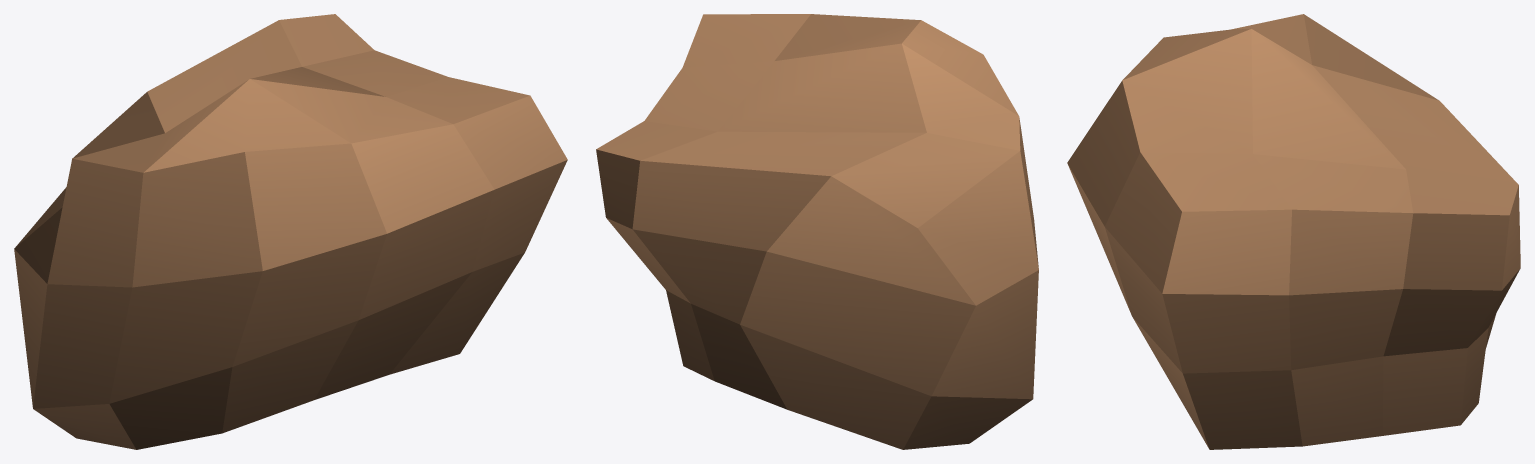
File: stone_A.fbx
3 views of the same model, side by side, from view 1: azimuth 30°, elevation 25°; view 2: azimuth 150°, elevation 25°; view 3: azimuth 270°, elevation 25° (orthographic). The views are drawn at different scales.
Parts seen in each view (by area): view 1: Cube.567; view 2: Cube.567; view 3: Cube.567.
Part boxes in pixels (left/top/right/bottom): Cube.567: left=14, top=14, right=567, bottom=449; Cube.567: left=596, top=14, right=1038, bottom=449; Cube.567: left=1067, top=14, right=1520, bottom=449.
Size of the model in its own units: 4.5 by 3.46 by 3.68.
1 material, 1 textured.
